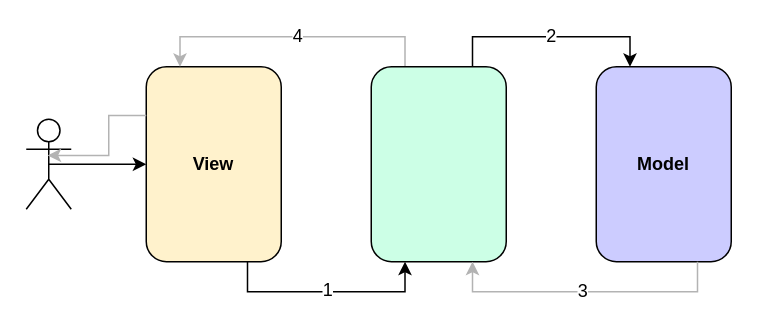
Image size: 758x330. Some labels were removed from this diagram. Here are the shapes that lost their labels. From the top down, the centre of each, then its label:
[48,163]: User
[438,163]: Presenter
